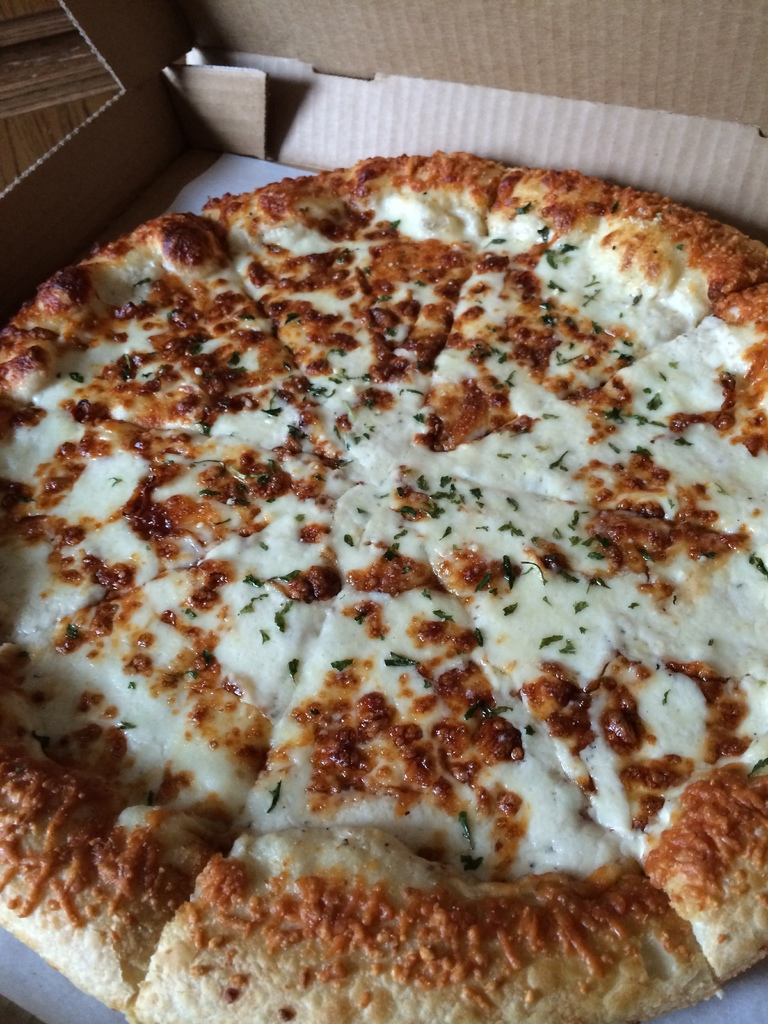Pizza: (0, 132, 768, 1014)
